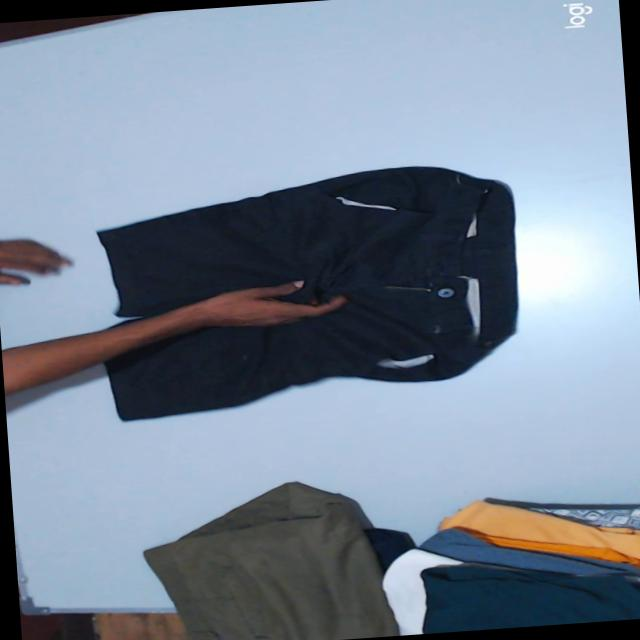new-garment: (98, 165, 516, 419)
